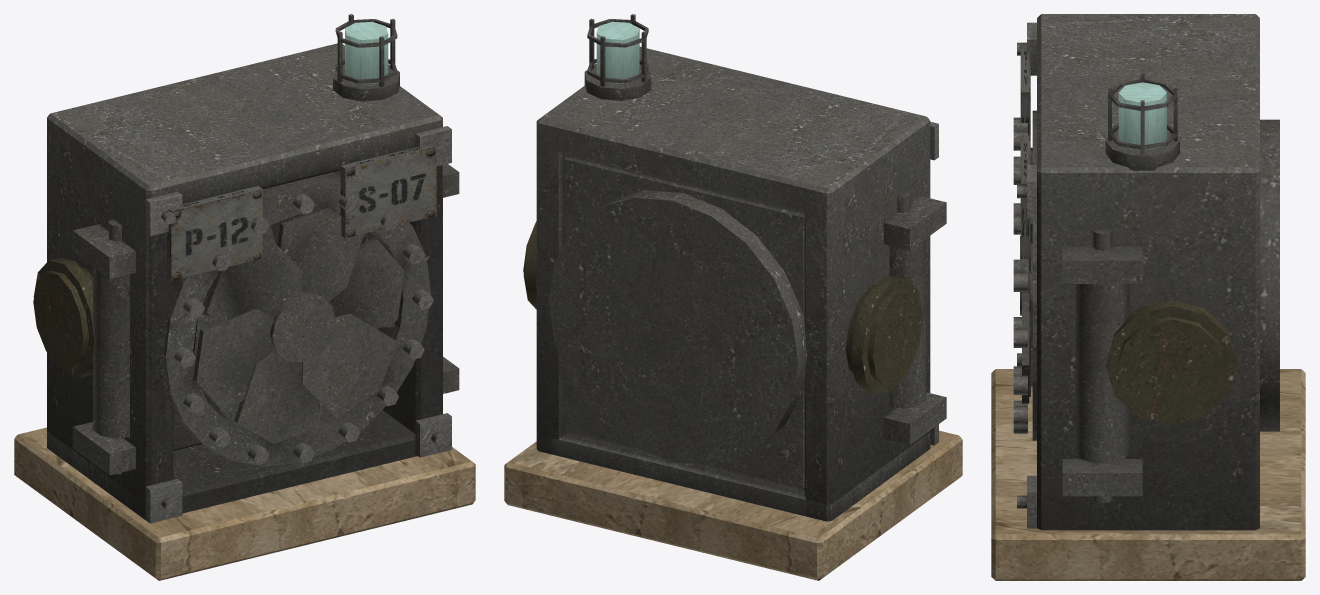
File: power_kit.glb
The picture shows the model from 3 angles, left to right: view 1: azimuth 30°, elevation 25°; view 2: azimuth 150°, elevation 25°; view 3: azimuth 270°, elevation 25°; orthographic projection. The views are drawn at different scales.
Parts seen in each view (by area): view 1: PK_shield_housing, PK_shield_plinth, PK_shield_flange_bolts, PK_surge_stencil, PK_shield_stencil, PK_shield_iris_blade_5, PK_surge_mount, PK_shield_iris_blade_3, PK_shield_iris_blade_4, PK_shield_iris_blade_1, PK_shield_iris_blade_2, PK_surge_cage (+2 smaller); view 2: PK_shield_housing, PK_shield_plinth, PK_surge_mount, PK_shield_core; view 3: PK_shield_housing, PK_shield_plinth, PK_surge_mount, PK_shield_flange_bolts, PK_shield_core, PK_surge_stencil, PK_shield_stencil, PK_shield_iris_blade_5.
Boxes of the visible parts, x1,y1,x2,y2 form: PK_shield_housing: [47, 14, 459, 519]; PK_shield_plinth: [14, 427, 475, 580]; PK_shield_flange_bolts: [145, 126, 451, 523]; PK_surge_stencil: [340, 144, 436, 238]; PK_shield_stencil: [167, 186, 262, 280]; PK_shield_iris_blade_5: [301, 313, 397, 418]; PK_surge_mount: [33, 257, 95, 377]; PK_shield_iris_blade_3: [193, 309, 274, 412]; PK_shield_iris_blade_4: [234, 350, 322, 443]; PK_shield_iris_blade_1: [277, 208, 363, 302]; PK_shield_iris_blade_2: [204, 233, 301, 322]; PK_surge_cage: [193, 214, 394, 421]; PK_shield_housing: [536, 14, 946, 521]; PK_shield_plinth: [504, 430, 962, 580]; PK_surge_mount: [523, 221, 922, 394]; PK_shield_core: [596, 21, 639, 83]; PK_shield_housing: [1032, 14, 1279, 530]; PK_shield_plinth: [991, 369, 1305, 580]; PK_surge_mount: [1105, 300, 1236, 424]; PK_shield_flange_bolts: [1013, 22, 1036, 528]; PK_shield_core: [1118, 82, 1166, 150]; PK_surge_stencil: [1020, 135, 1030, 258]; PK_shield_stencil: [1020, 44, 1030, 135]; PK_shield_iris_blade_5: [1022, 292, 1029, 403].
Bounding box in the file's own units: 1.54 × 1.83 × 1.1.
4 materials, 4 textured.
